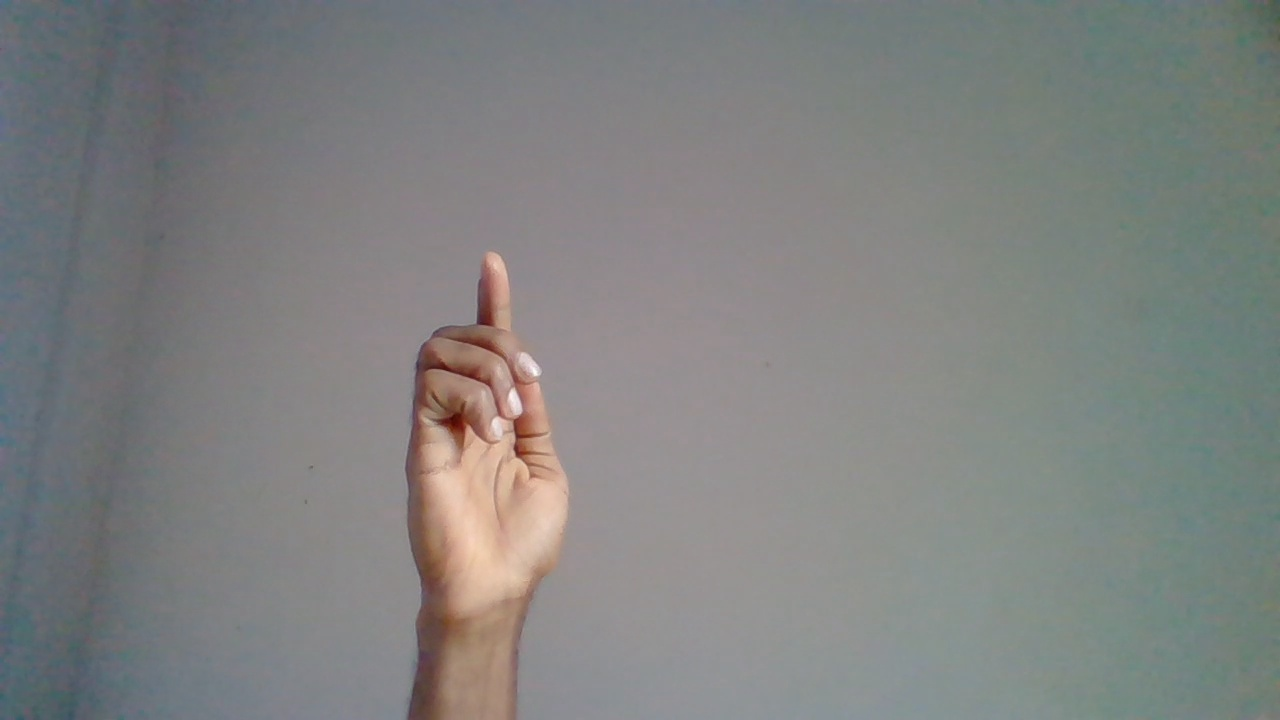qe: (400, 250, 576, 700)
